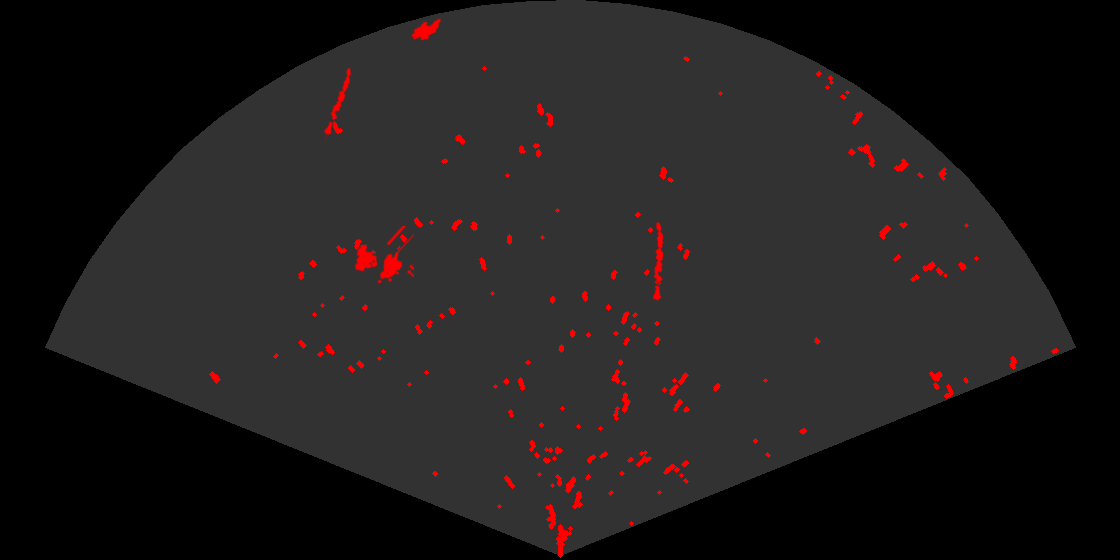AUV: (410, 17, 443, 42)
cage: (353, 226, 414, 285)
chain: (322, 65, 353, 141), (651, 221, 665, 302)
